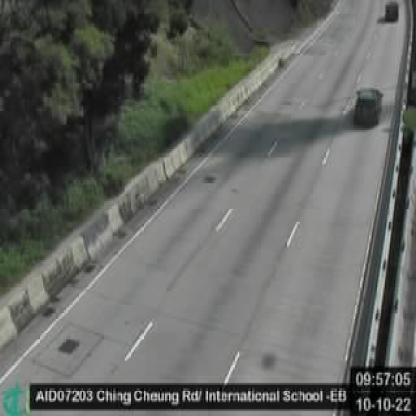Car: (353, 85, 382, 128), (384, 0, 399, 21)
